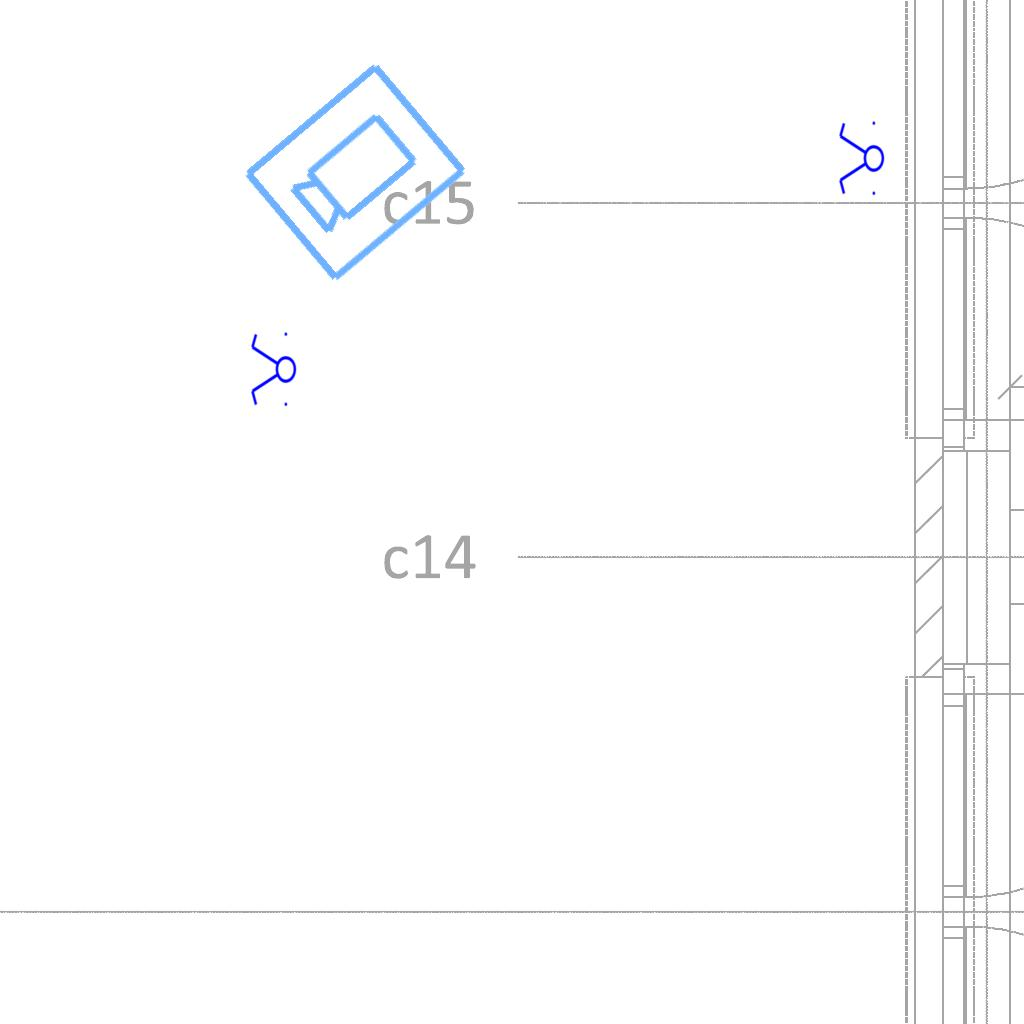KFO_Kamera_mit_Festobjektiv: (235, 53, 475, 289)
Serienschalter: (249, 328, 297, 412), (837, 117, 885, 201)
